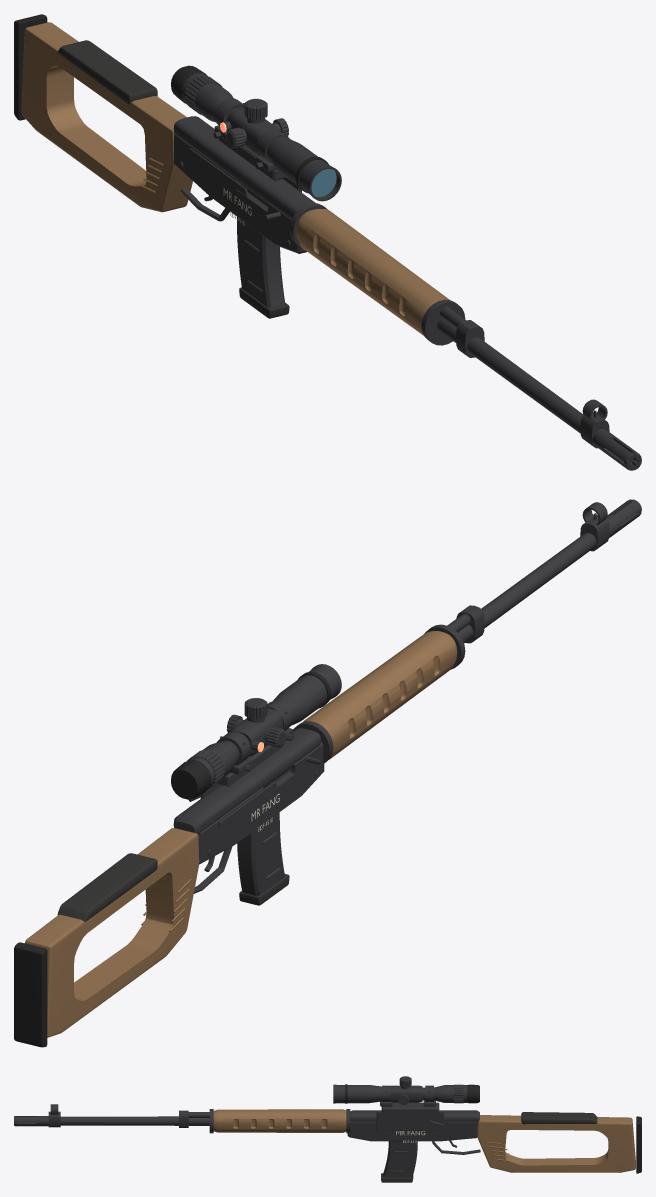
The model's file is fang.glb.
The picture shows the model from 3 angles, top to bottom: view 1: azimuth 30°, elevation 25°; view 2: azimuth 150°, elevation 25°; view 3: azimuth 270°, elevation 25°; orthographic projection. The views are drawn at different scales.
Visible parts, largest first — view 1: Body; view 2: Body; view 3: Body.
Part boxes in pixels (x1=…): Body: x1=14, y1=14, x2=641, y2=470; Body: x1=14, y1=499, x2=641, y2=1047; Body: x1=14, y1=1076, x2=641, y2=1182.
Bounding box in the file's own units: 0.0723 × 0.2343 × 1.3.
